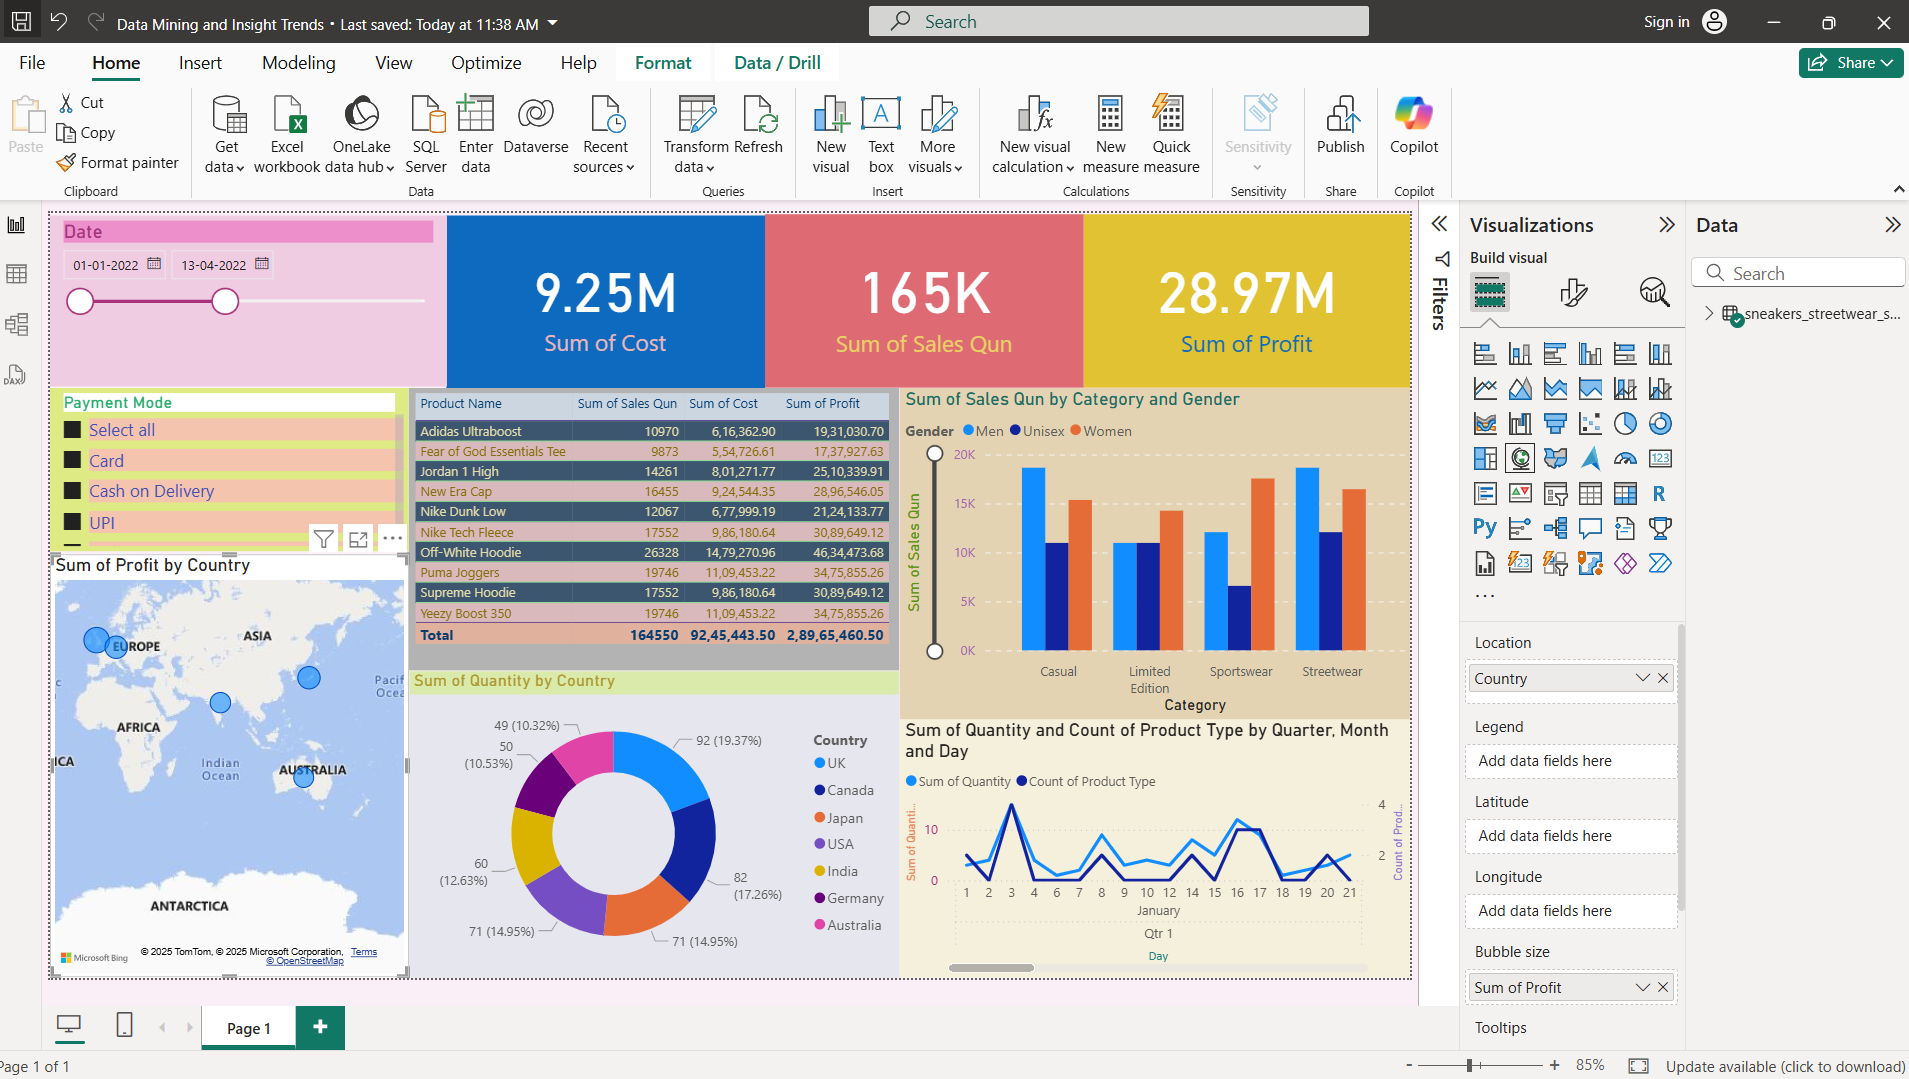

This screenshot's page, from the dashboard's own definition file:
{"tool":"powerbi","page":{"name":"Page 1","canvas":[1280,720],"ordinal":0},"visuals":[{"type":"card","fields":{"Values":["Sum(sneakers_streetwear_sales_data.Sum of Sales Quantity)"]},"box":[673.3,1.2,299.8,163.4],"z":0},{"type":"card","fields":{"Values":["Sum(sneakers_streetwear_sales_data.Sum of Cost Unit Price)"]},"box":[373.5,2.5,299.8,162.2],"z":1000},{"type":"card","fields":{"Values":["Sum(sneakers_streetwear_sales_data.Sum of Profit Amount)"]},"box":[973.1,1.2,307.2,163.4],"z":2000},{"type":"clusteredColumnChart","fields":{"Category":["sneakers_streetwear_sales_data.Category","sneakers_streetwear_sales_data.Date.Variation.Date Hierarchy.Year","sneakers_streetwear_sales_data.Date.Variation.Date Hierarchy.Quarter"],"Y":["Sum(sneakers_streetwear_sales_data.Sales Qun)"],"Series":["sneakers_streetwear_sales_data.Gender"]},"box":[800,165.1,480.2,311.6],"z":3000},{"type":"lineChart","fields":{"Category":["sneakers_streetwear_sales_data.Date.Variation.Date Hierarchy.Quarter","sneakers_streetwear_sales_data.Date.Variation.Date Hierarchy.Month","sneakers_streetwear_sales_data.Date.Variation.Date Hierarchy.Day"],"Y2":["CountNonNull(sneakers_streetwear_sales_data.Product Type)"],"Y":["Sum(sneakers_streetwear_sales_data.Quantity)"]},"box":[799.8,476.7,480.4,243.3],"z":4000},{"type":"donutChart","fields":{"Y":["Sum(sneakers_streetwear_sales_data.Quantity)"],"Category":["sneakers_streetwear_sales_data.Country"]},"box":[337.9,430,462,290],"z":5000},{"type":"tableEx","fields":{"Values":["sneakers_streetwear_sales_data.Product Name","Sum(sneakers_streetwear_sales_data.Sales Quantity)","Sum(sneakers_streetwear_sales_data.Cost Unit Price)","Sum(sneakers_streetwear_sales_data.Profit Amount)"]},"box":[337.9,164.6,462,265.4],"z":6000},{"type":"map","fields":{"Category":["sneakers_streetwear_sales_data.Country"],"Size":["Sum(sneakers_streetwear_sales_data.Profit)"]},"box":[0,320.7,337.9,399.3],"z":7000},{"type":"slicer","fields":{"Values":["sneakers_streetwear_sales_data.Payment Mode"]},"box":[0,164.6,337.9,153.6],"z":8000},{"type":"slicer","fields":{"Values":["sneakers_streetwear_sales_data.Date"]},"box":[0,2.5,373.5,161],"z":9000}]}

Visuals, with their boxes on the page's 1280x720 design canvas (x1, y1, x2, y2). These are canvas units, not pixel positions in the 1909x1079 screenshot, which may show the page scaled, cropped or inside an application window:
card - Sum(sneakers_streetwear_sales_data.Sum of Sales Quantity): pyautogui.locateOnScreen(673, 1, 973, 165)
card - Sum(sneakers_streetwear_sales_data.Sum of Cost Unit Price): pyautogui.locateOnScreen(374, 2, 673, 165)
card - Sum(sneakers_streetwear_sales_data.Sum of Profit Amount): pyautogui.locateOnScreen(973, 1, 1280, 165)
clusteredColumnChart - sneakers_streetwear_sales_data.Category x sneakers_streetwear_sales_data.Date.Variation.Date Hierarchy.Year: pyautogui.locateOnScreen(800, 165, 1280, 477)
lineChart - sneakers_streetwear_sales_data.Date.Variation.Date Hierarchy.Quarter x sneakers_streetwear_sales_data.Date.Variation.Date Hierarchy.Month: pyautogui.locateOnScreen(800, 477, 1280, 720)
donutChart - Sum(sneakers_streetwear_sales_data.Quantity) x sneakers_streetwear_sales_data.Country: pyautogui.locateOnScreen(338, 430, 800, 720)
tableEx - sneakers_streetwear_sales_data.Product Name x Sum(sneakers_streetwear_sales_data.Sales Quantity): pyautogui.locateOnScreen(338, 165, 800, 430)
map - sneakers_streetwear_sales_data.Country x Sum(sneakers_streetwear_sales_data.Profit): pyautogui.locateOnScreen(0, 321, 338, 720)
slicer - sneakers_streetwear_sales_data.Payment Mode: pyautogui.locateOnScreen(0, 165, 338, 318)
slicer - sneakers_streetwear_sales_data.Date: pyautogui.locateOnScreen(0, 2, 374, 164)
